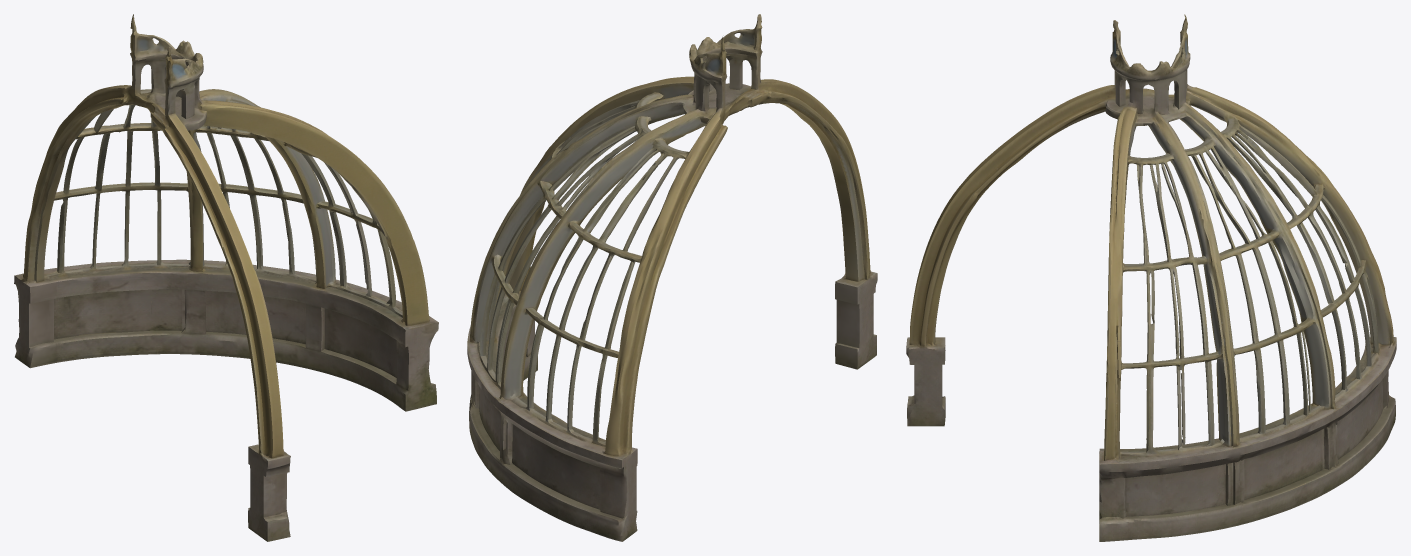
Rendered from cloudreach_aviary_dome_rib_section.glb.
3 renders of one model, left to right at view 1: azimuth 30°, elevation 25°; view 2: azimuth 150°, elevation 25°; view 3: azimuth 270°, elevation 25°, orthographic. The views are drawn at different scales.
Parts seen in each view (by area): view 1: Mesh_0; view 2: Mesh_0; view 3: Mesh_0.
Boxes of the visible parts, <box> form: Mesh_0: <box>14,14,438,541</box>; Mesh_0: <box>467,14,877,541</box>; Mesh_0: <box>906,14,1396,541</box>.
Bounding box in the file's own units: 14.8 × 22 × 24.07.
Materials: 1 (1 with a texture image).
